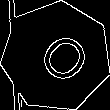O_SW: (23, 23, 89, 90)
